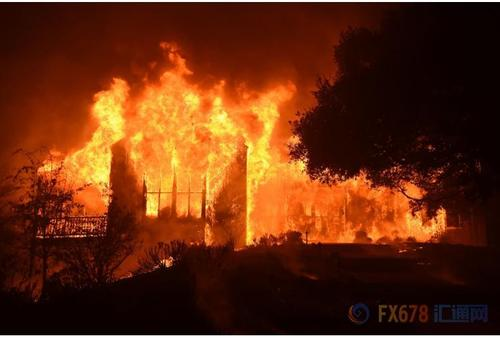fire: (99, 79, 279, 161), (244, 173, 421, 235)
